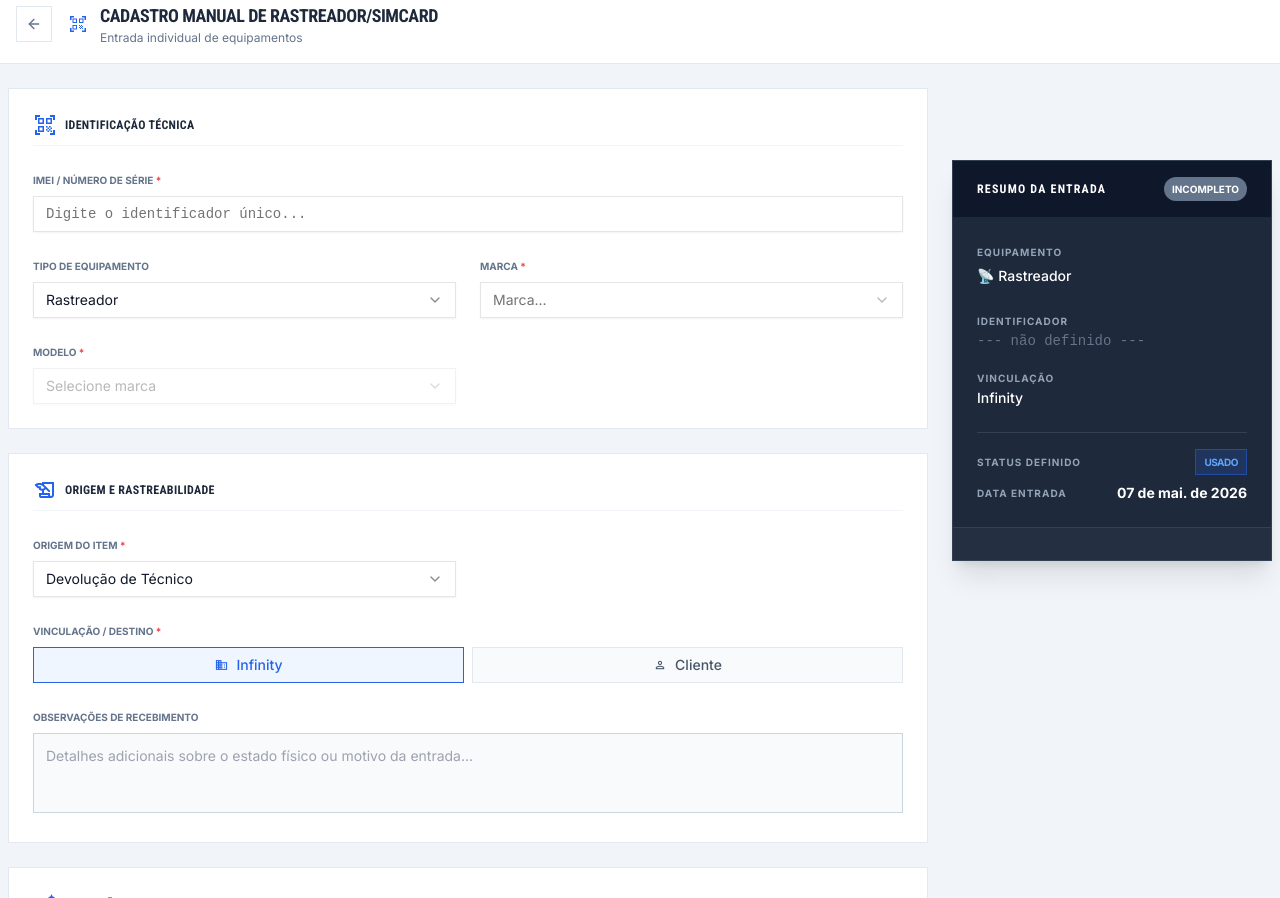
Test: CadastroIndividualPage (integrado, APIs mockadas) › Compra Avulsa restringe opções de status a NOVO_OK
Click the dropdown labelled "Devolução de Técnico" at (119, 578), box [33,561,456,597]
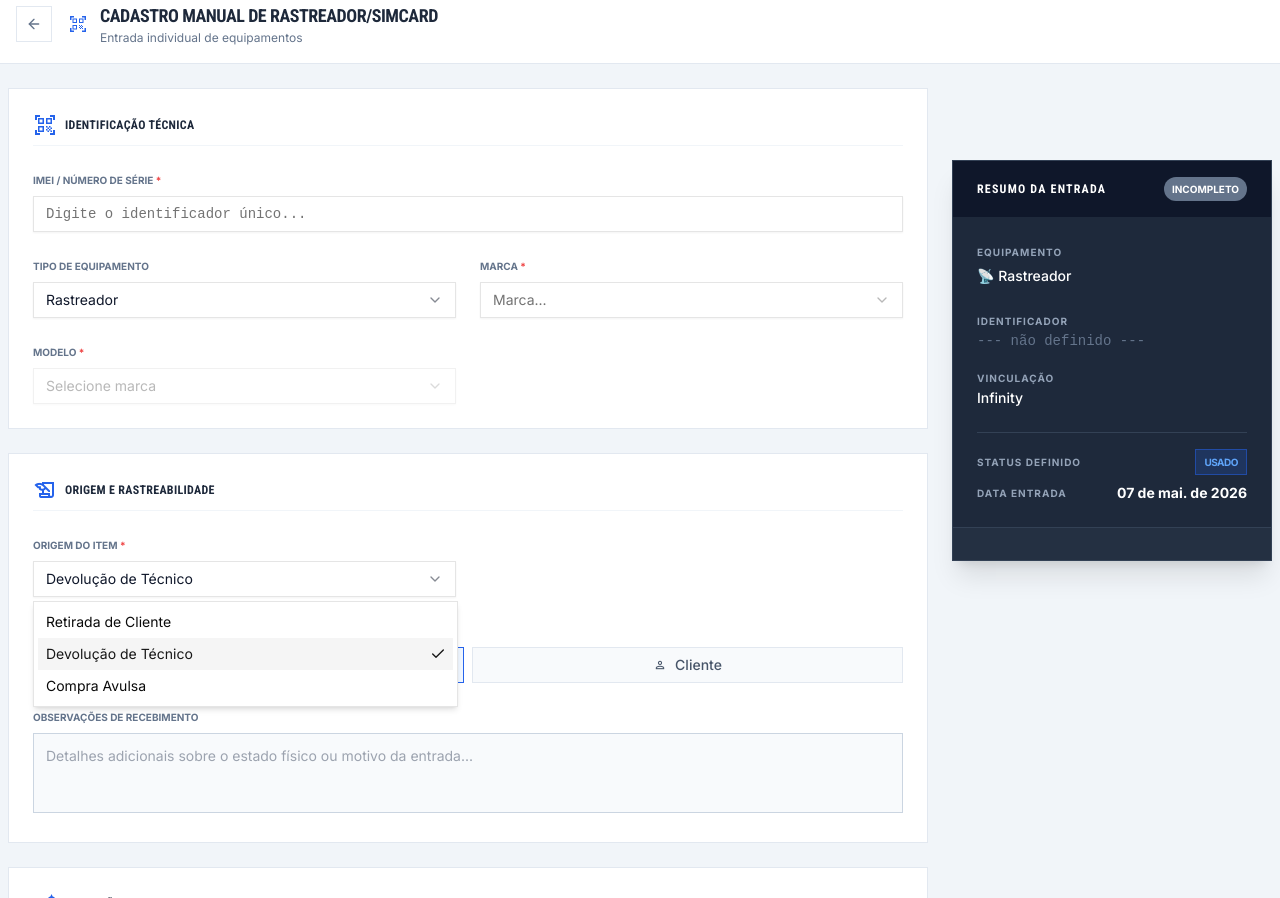
Click the option "Compra Avulsa" at (96, 686), box [46,677,146,694]
(page scrolled)
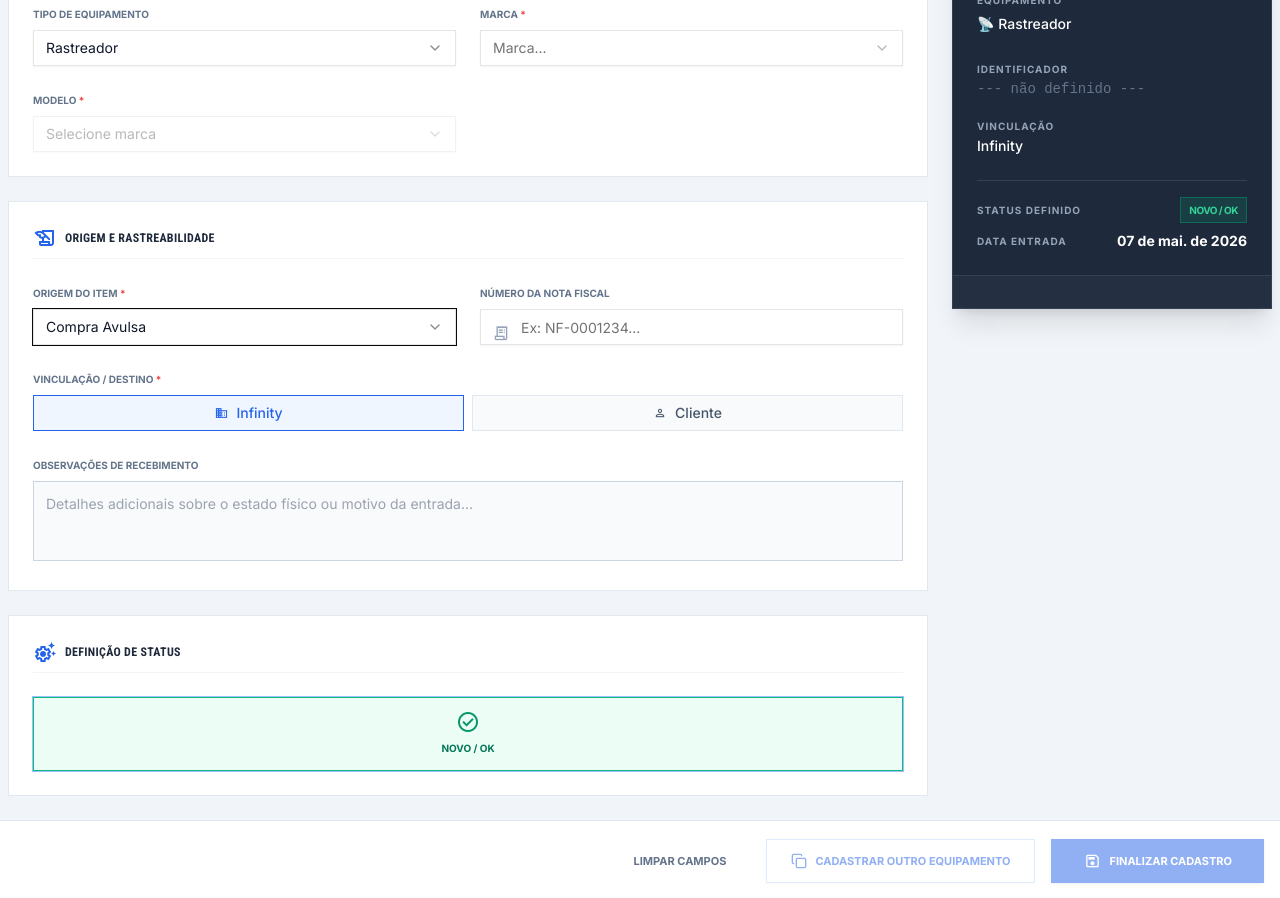
Result: the button "Novo / OK" is shown at [33,697,903,771]
Result: the text "Usado" is gone
